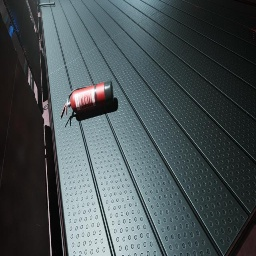FireExtinguisher ]: (60, 80, 114, 118)
